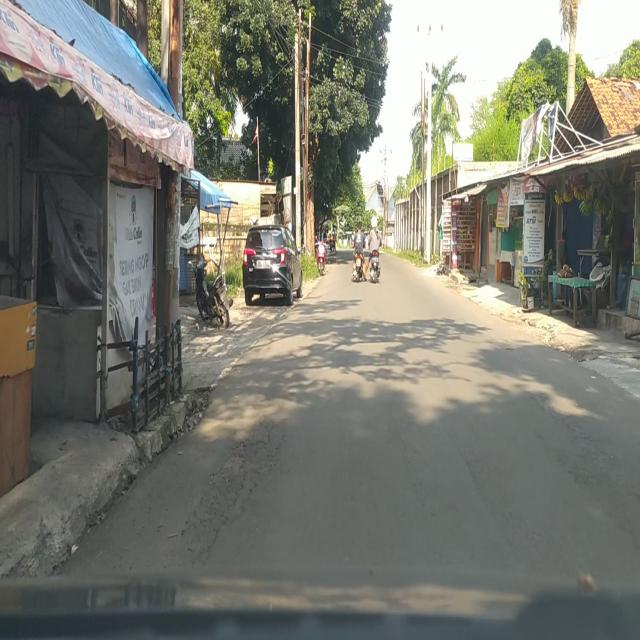Drain Hole: (182, 425, 281, 565)
